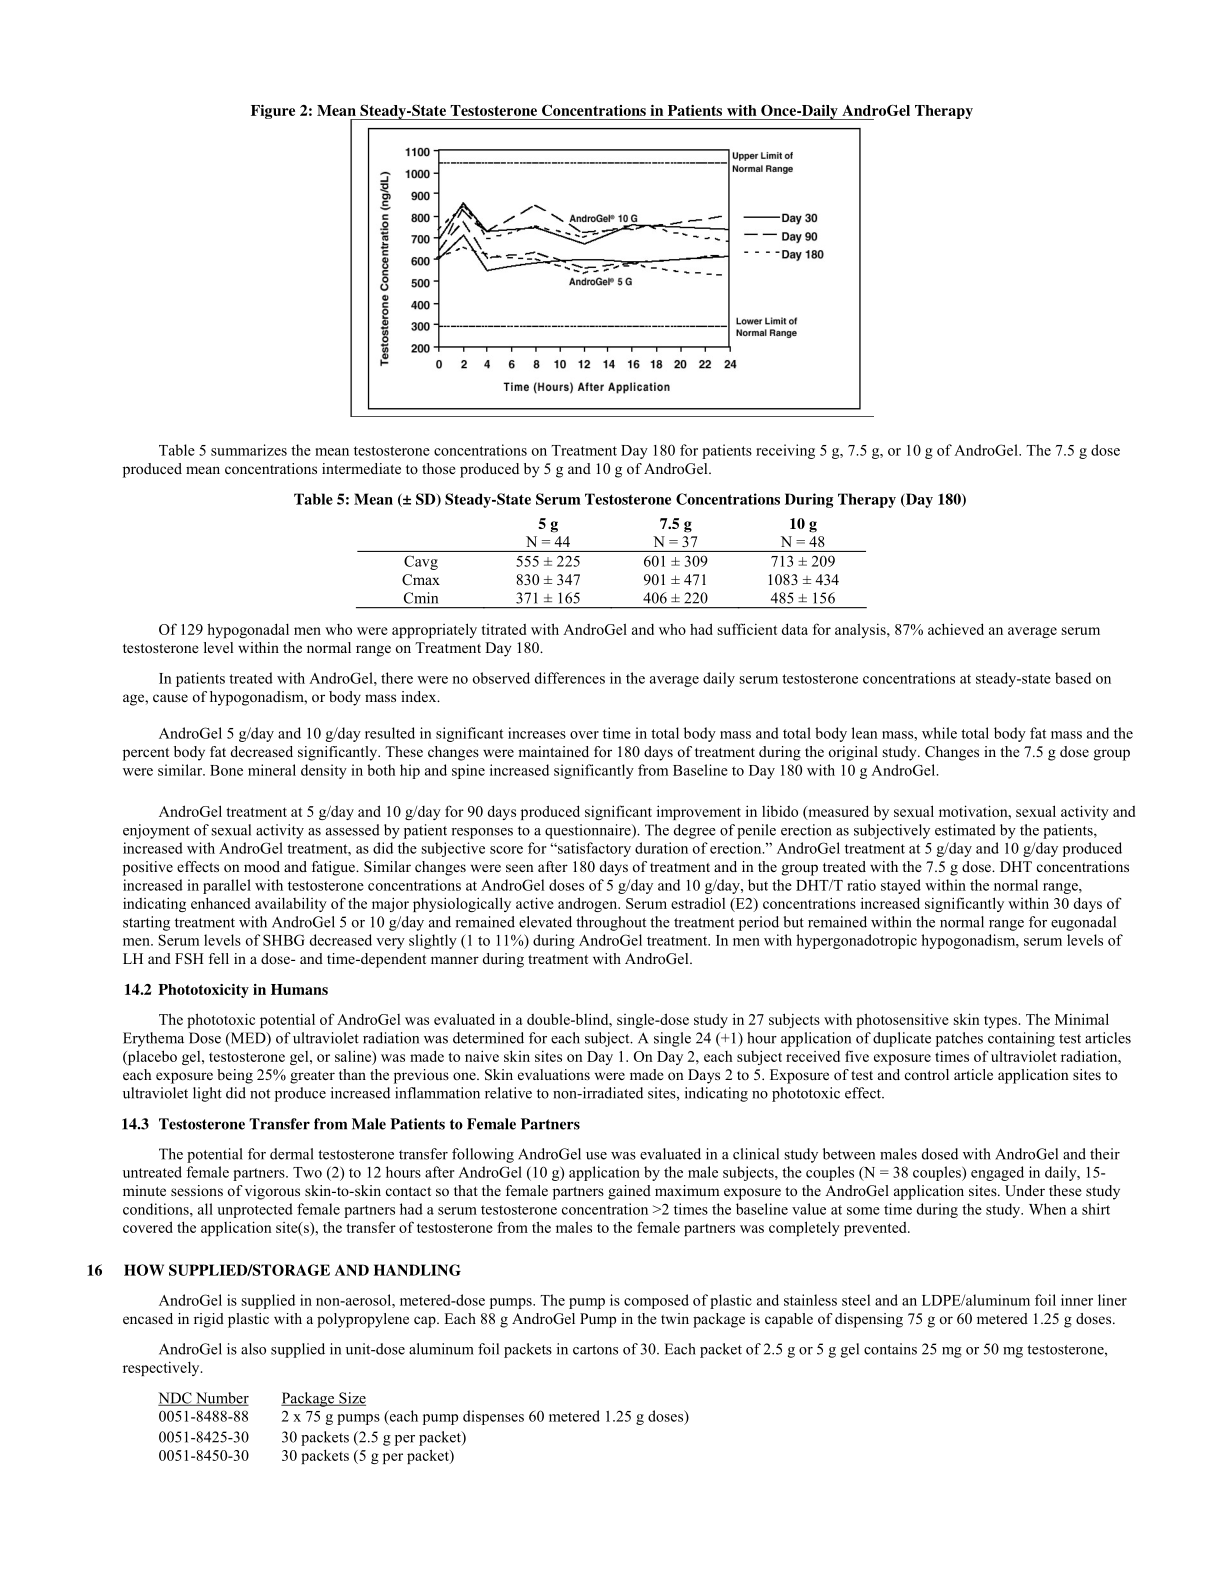nolines: (157, 1391, 690, 1463)
partial_lined: (356, 518, 867, 611)
